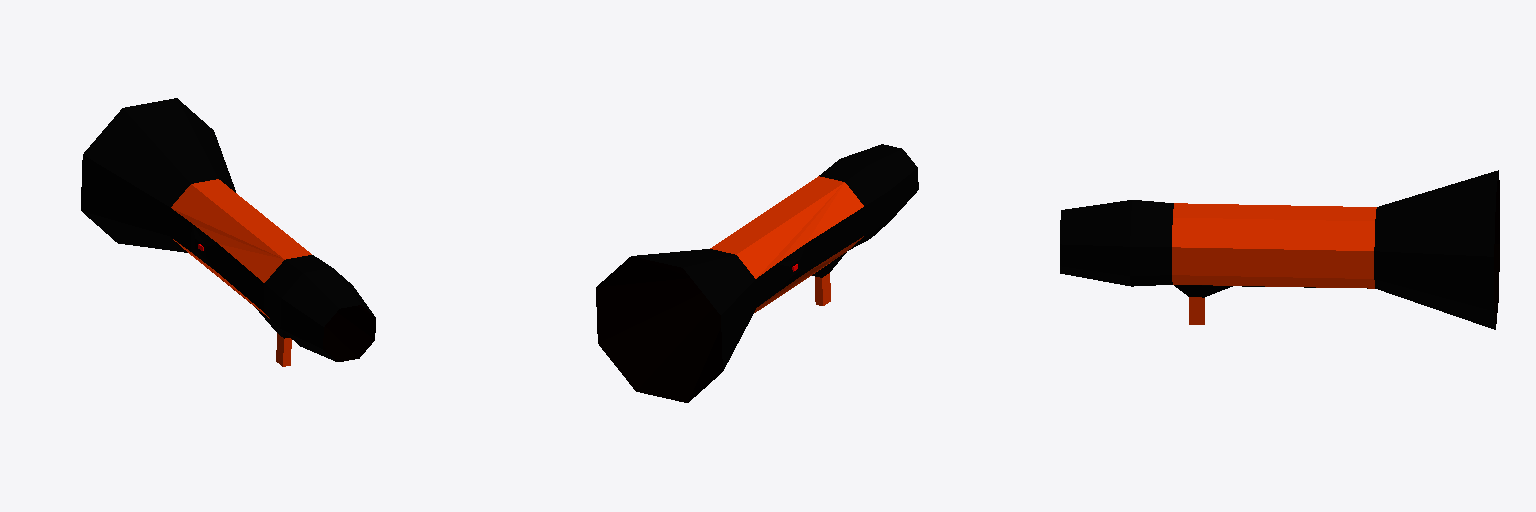
Rendered from RocketLauncher.obj.
3 renders of one model, left to right at view 1: azimuth 30°, elevation 25°; view 2: azimuth 150°, elevation 25°; view 3: azimuth 270°, elevation 25°, orthographic.
Visible parts, largest first — view 1: RocketLauncher; view 2: RocketLauncher; view 3: RocketLauncher.
Boxes of the visible parts, <box> form: RocketLauncher: <box>81,98,375,366</box>; RocketLauncher: <box>596,144,918,402</box>; RocketLauncher: <box>1060,170,1499,329</box>.
Bounding box in the file's own units: 1.54 × 1.67 × 4.52.